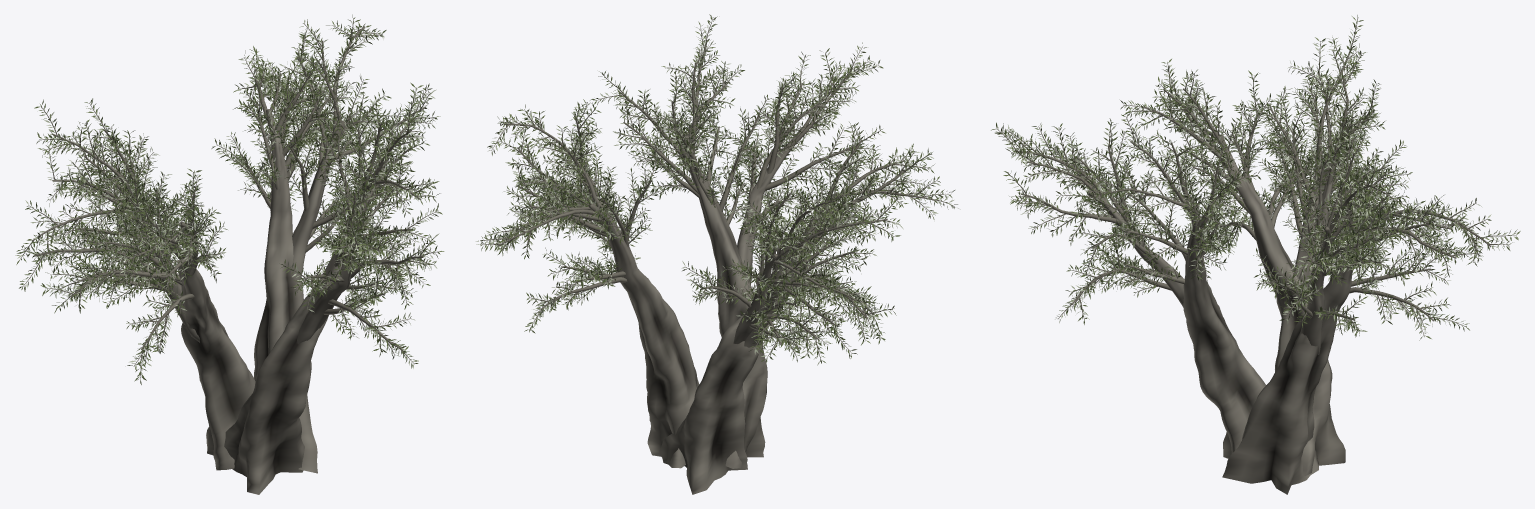
Rendered from olive_old.glb.
3 renders of one model, left to right at view 1: azimuth 30°, elevation 25°; view 2: azimuth 150°, elevation 25°; view 3: azimuth 270°, elevation 25°, orthographic. The views are drawn at different scales.
Visible parts, largest first — view 1: olive_old; view 2: olive_old; view 3: olive_old.
Part boxes in pixels (box(x1,y1,x2,y2)): olive_old: box(15, 14, 444, 494); olive_old: box(476, 14, 960, 494); olive_old: box(991, 15, 1520, 494).
Size of the model in its own units: 6.1 by 5.79 by 7.06.
